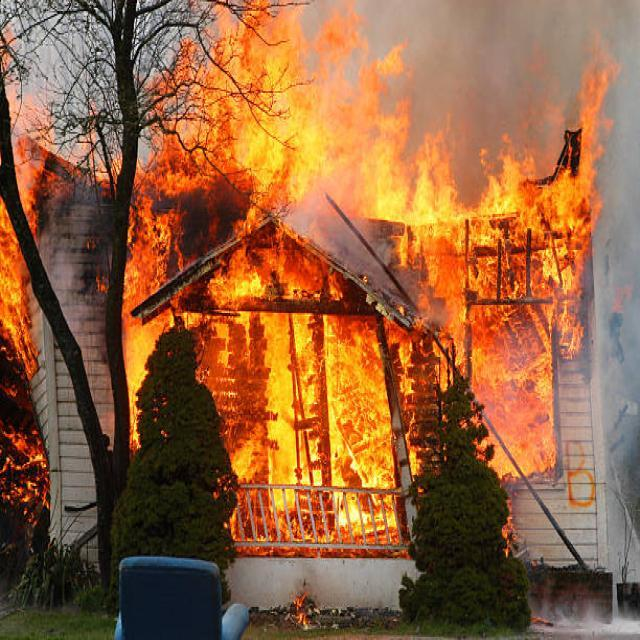Fire: (123, 0, 319, 458), (400, 170, 590, 491), (325, 2, 396, 554), (597, 170, 640, 640), (5, 30, 73, 202), (222, 462, 324, 556), (0, 208, 22, 576), (577, 52, 611, 165)
Smoke: (399, 0, 572, 163)
